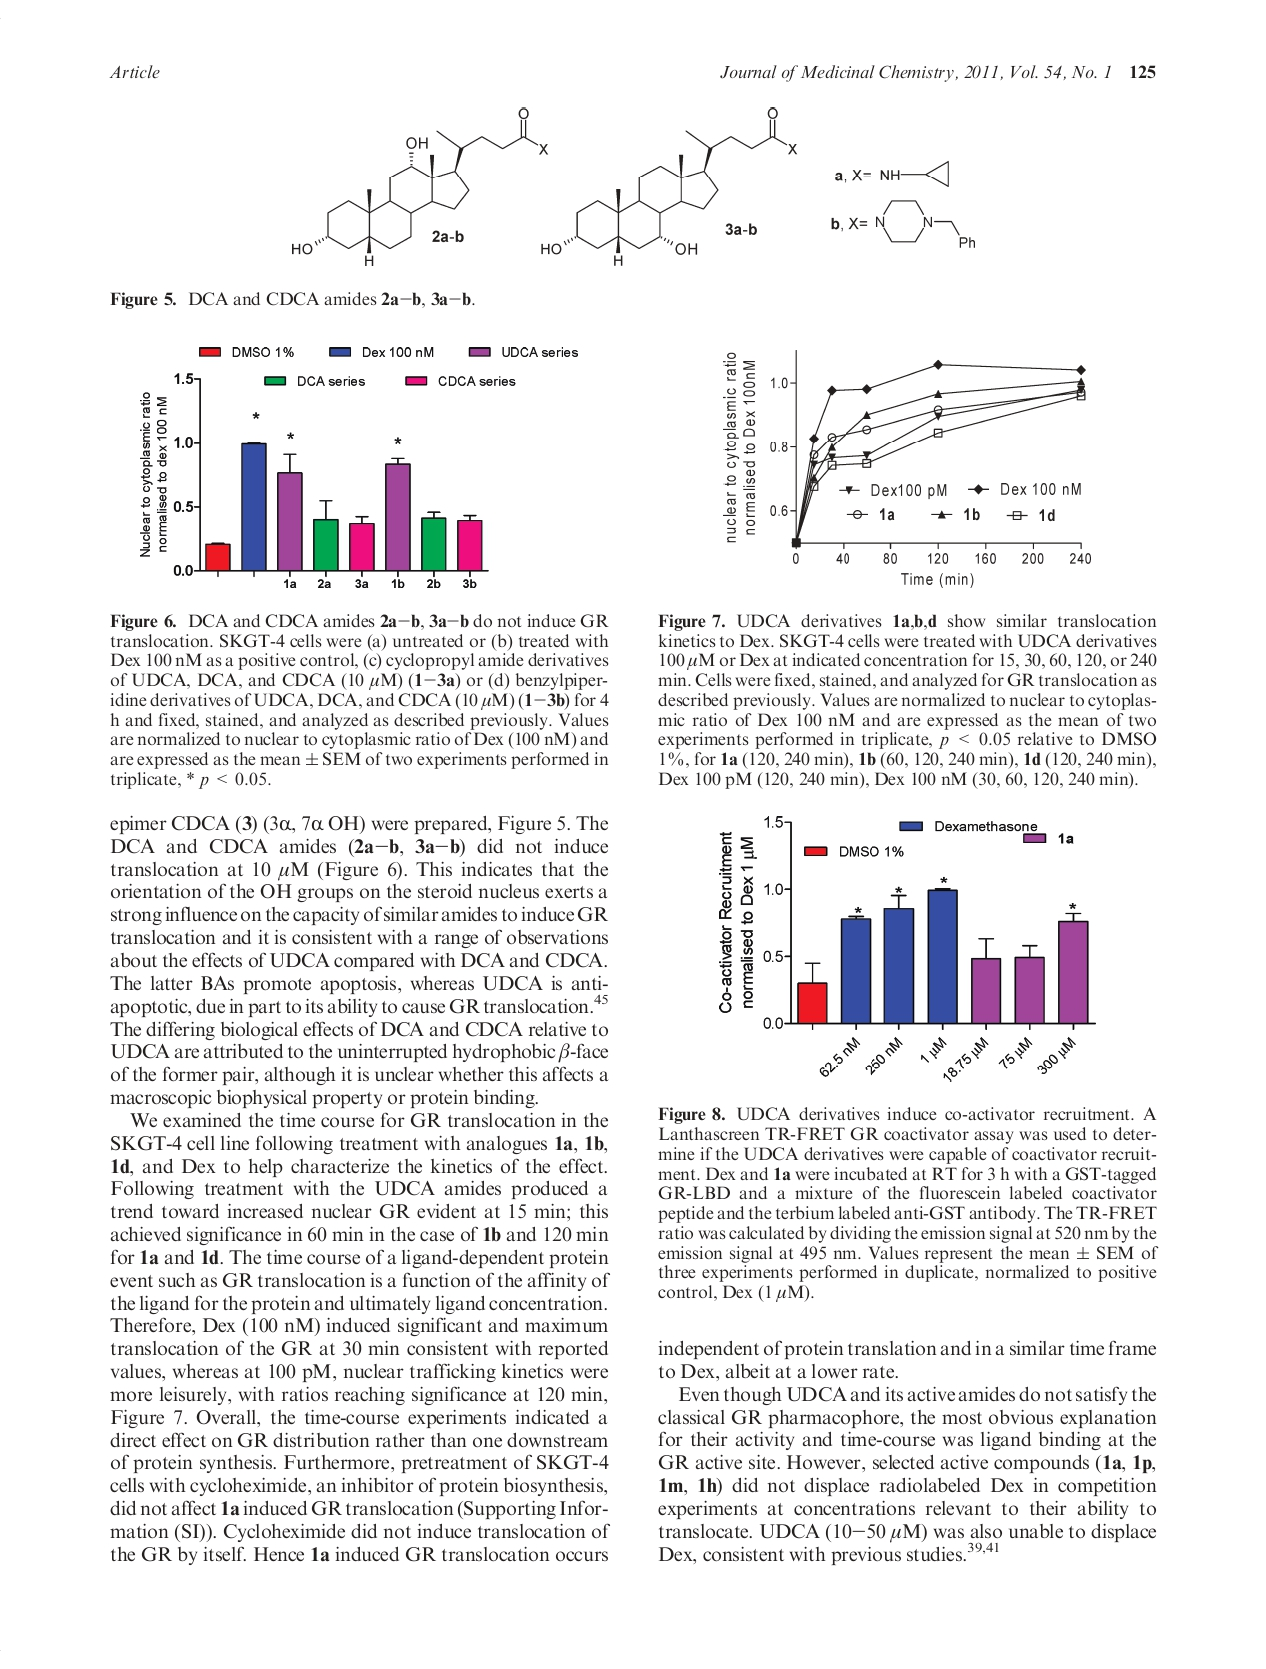exist_molecular: (287, 104, 549, 270), (540, 105, 798, 265), (870, 197, 979, 261), (876, 157, 956, 192)
